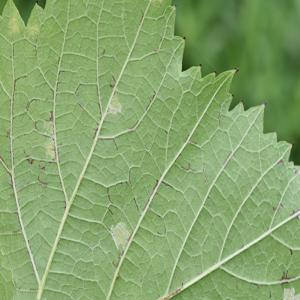Folha: (0, 0, 300, 300)
Fungo: (110, 220, 131, 254), (108, 93, 121, 115), (282, 286, 299, 299), (282, 270, 292, 283), (37, 175, 47, 186), (39, 164, 45, 172), (262, 101, 268, 107), (234, 67, 239, 73), (182, 34, 187, 40), (290, 141, 294, 146), (214, 70, 216, 76), (199, 63, 202, 67)
